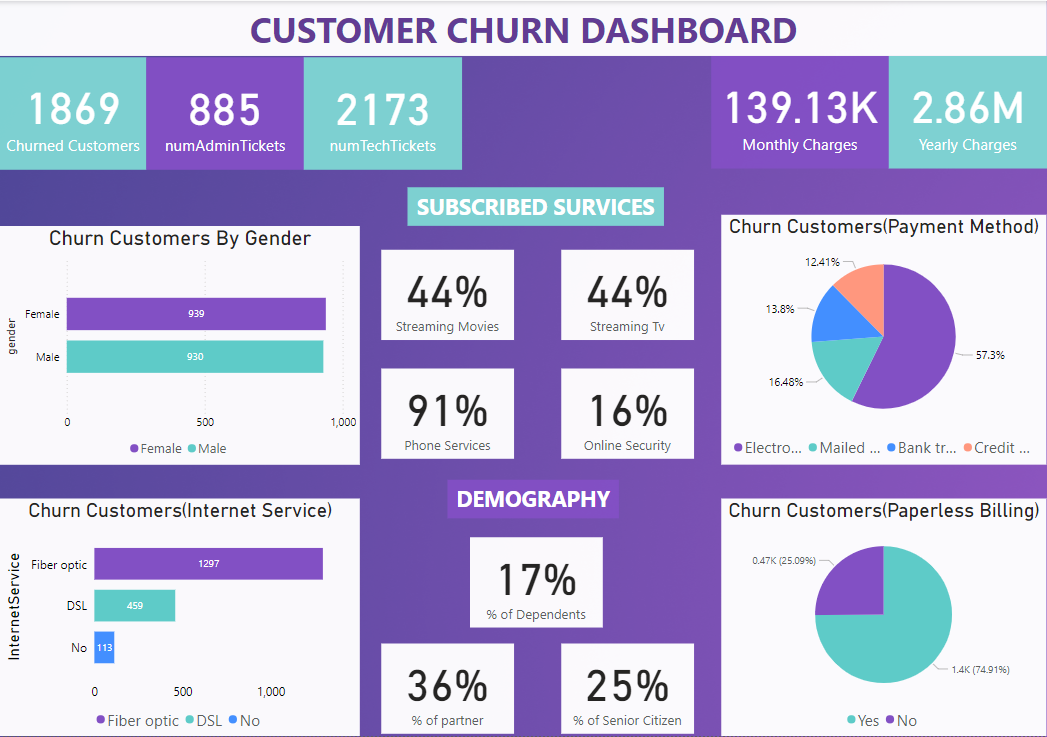

This screenshot's page, from the dashboard's own definition file:
{"tool":"powerbi","page":{"name":"Page 1","canvas":[1280,850],"ordinal":0},"visuals":[{"type":"textbox","box":[0,0,1280.3,68.3],"z":0},{"type":"card","fields":{"Values":["01 Churn-Dataset.Churned"]},"box":[0,68.3,178.7,110.4],"z":1000},{"type":"card","fields":{"Values":["Sum(01 Churn-Dataset.numAdminTickets)"]},"box":[178.7,68.3,180.2,110.4],"z":2000},{"type":"card","fields":{"Values":["Sum(01 Churn-Dataset.numTechTickets)"]},"box":[358.9,68.3,180.2,110.4],"z":3000},{"type":"card","fields":{"Values":["Sum(01 Churn-Dataset.MonthlyCharges)"]},"box":[893.1,68,212.2,110.4],"z":4000},{"type":"card","fields":{"Values":["Sum(01 Churn-Dataset.TotalCharges)"]},"box":[1105.3,68,175.8,110.4],"z":5000},{"type":"card","fields":{"Values":["01 Churn-Dataset.% Streaming Movies"]},"box":[733.4,280.1,160.2,111.2],"z":6000},{"type":"card","fields":{"Values":["01 Churn-Dataset.% Phone Service"]},"box":[733.4,404.2,160.2,111.2],"z":7000},{"type":"card","fields":{"Values":["01 Churn-Dataset.% Tech Support"]},"box":[495.2,404.2,161.7,111.2],"z":8000},{"type":"card","fields":{"Values":["01 Churn-Dataset.% of partner"]},"box":[600.5,604.9,157.4,108.3],"z":9000},{"type":"card","fields":{"Values":["01 Churn-Dataset.% of Dependents"]},"box":[721.8,737.7,157.4,109.7],"z":10000},{"type":"card","fields":{"Values":["01 Churn-Dataset.% Senior Citizen"]},"box":[483.6,737.7,155.9,109.7],"z":11000},{"type":"card","fields":{"Values":["01 Churn-Dataset.% Streaming TV"]},"box":[495.2,280.1,161.7,111.2],"z":12000},{"type":"barChart","title":"Churn Customer By Gender","fields":{"Category":["01 Churn-Dataset.gender"],"Y":["CountNonNull(01 Churn-Dataset.gender)"],"Series":["01 Churn-Dataset.gender"]},"box":[0,268.5,421.5,261.3],"z":13000},{"type":"barChart","title":"Churn Customers(Internet Service)","fields":{"Category":["01 Churn-Dataset.InternetService"],"Y":["CountNonNull(01 Churn-Dataset.InternetService)"],"Series":["01 Churn-Dataset.InternetService"]},"box":[0,591.9,421.5,258.4],"z":14000},{"type":"pieChart","title":"Churn Customers(Payment Method)","fields":{"Category":["01 Churn-Dataset.PaymentMethod"],"Y":["CountNonNull(01 Churn-Dataset.PaymentMethod)"]},"box":[941.2,268.5,339.3,261.3],"z":15000},{"type":"pieChart","title":"Churn Customers(Paperless Billing)","fields":{"Category":["01 Churn-Dataset.PaperlessBilling"],"Y":["CountNonNull(01 Churn-Dataset.PaperlessBilling)"]},"box":[941.2,591.9,339.3,258.4],"z":16000},{"type":"textbox","box":[539.9,206.4,310.4,52],"z":16001},{"type":"textbox","box":[569.7,540.6,207.8,52.3],"z":16002}]}

Visuals, with their boxes on the page's 1280x850 design canvas (x1, y1, x2, y2). These are canvas units, not pixel positions in the 1047x737 screenshot, which may show the page scaled, cropped or inside an application window:
textbox: {"left": 0, "top": 0, "right": 1280, "bottom": 68}
card - 01 Churn-Dataset.Churned: {"left": 0, "top": 68, "right": 179, "bottom": 179}
card - Sum(01 Churn-Dataset.numAdminTickets): {"left": 179, "top": 68, "right": 359, "bottom": 179}
card - Sum(01 Churn-Dataset.numTechTickets): {"left": 359, "top": 68, "right": 539, "bottom": 179}
card - Sum(01 Churn-Dataset.MonthlyCharges): {"left": 893, "top": 68, "right": 1105, "bottom": 178}
card - Sum(01 Churn-Dataset.TotalCharges): {"left": 1105, "top": 68, "right": 1281, "bottom": 178}
card - 01 Churn-Dataset.% Streaming Movies: {"left": 733, "top": 280, "right": 894, "bottom": 391}
card - 01 Churn-Dataset.% Phone Service: {"left": 733, "top": 404, "right": 894, "bottom": 515}
card - 01 Churn-Dataset.% Tech Support: {"left": 495, "top": 404, "right": 657, "bottom": 515}
card - 01 Churn-Dataset.% of partner: {"left": 600, "top": 605, "right": 758, "bottom": 713}
card - 01 Churn-Dataset.% of Dependents: {"left": 722, "top": 738, "right": 879, "bottom": 847}
card - 01 Churn-Dataset.% Senior Citizen: {"left": 484, "top": 738, "right": 640, "bottom": 847}
card - 01 Churn-Dataset.% Streaming TV: {"left": 495, "top": 280, "right": 657, "bottom": 391}
"Churn Customer By Gender" barChart: {"left": 0, "top": 268, "right": 422, "bottom": 530}
"Churn Customers(Internet Service)" barChart: {"left": 0, "top": 592, "right": 422, "bottom": 850}
"Churn Customers(Payment Method)" pieChart: {"left": 941, "top": 268, "right": 1280, "bottom": 530}
"Churn Customers(Paperless Billing)" pieChart: {"left": 941, "top": 592, "right": 1280, "bottom": 850}
textbox: {"left": 540, "top": 206, "right": 850, "bottom": 258}
textbox: {"left": 570, "top": 541, "right": 778, "bottom": 593}
